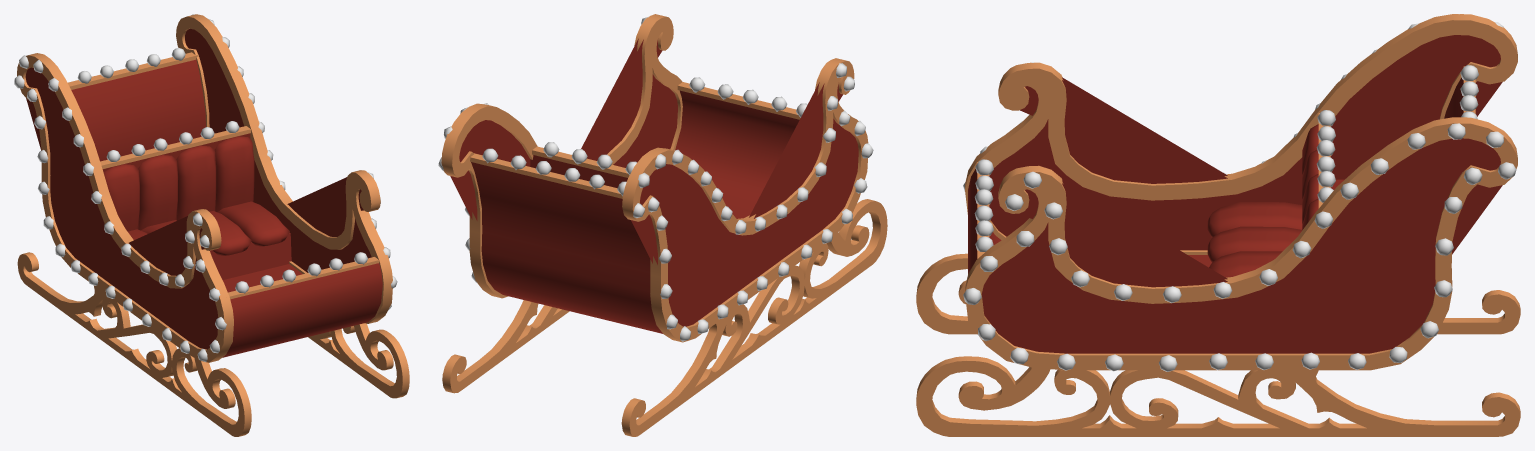
The model's file is SantaSleigh_01.fbx.
3 views of the same model, side by side, from view 1: azimuth 30°, elevation 25°; view 2: azimuth 150°, elevation 25°; view 3: azimuth 270°, elevation 25° (orthographic). The views are drawn at different scales.
Visible parts, largest first — view 1: SantaSleigh_01, SantaSleigh_01_Lights; view 2: SantaSleigh_01, SantaSleigh_01_Lights; view 3: SantaSleigh_01, SantaSleigh_01_Lights.
Part boxes in pixels (x1=…): SantaSleigh_01: x1=17, y1=14, x2=409, y2=436; SantaSleigh_01_Lights: x1=14, y1=14, x2=397, y2=361; SantaSleigh_01: x1=441, y1=14, x2=887, y2=436; SantaSleigh_01_Lights: x1=438, y1=16, x2=873, y2=341; SantaSleigh_01: x1=916, y1=14, x2=1520, y2=436; SantaSleigh_01_Lights: x1=963, y1=14, x2=1516, y2=371.
Bounding box in the file's own units: 0.5359 × 0.676 × 1.18.
